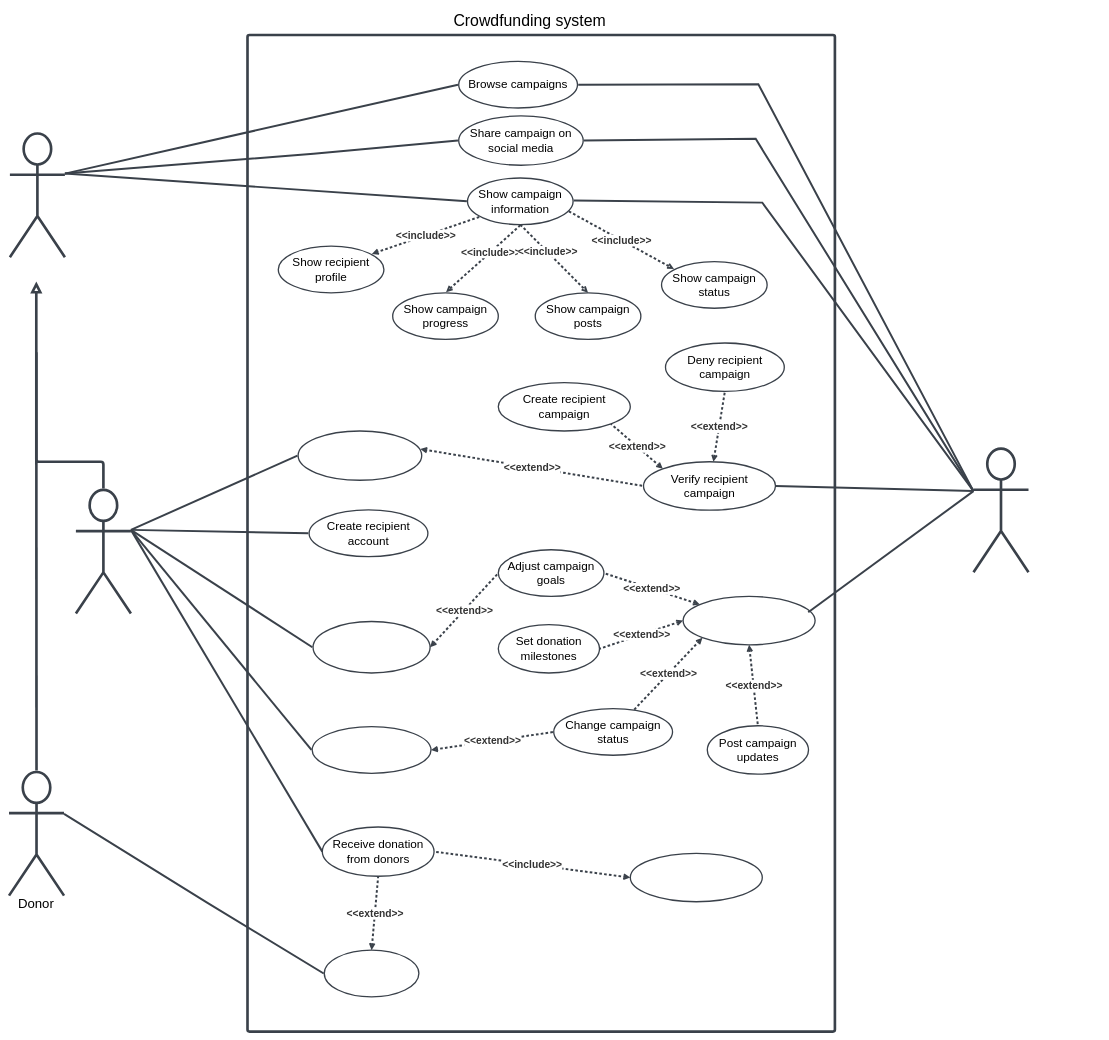
Some shapes in this 1109 by 1040 pixel diagram are drawn without their labels. Each missing label, with the centre of its shape:
"Apply for campaign creation" belongs at pixel 359 455.
"Charge service fee" belongs at pixel 696 877.
"Donate to recipient" belongs at pixel 371 973.
"End user" belongs at pixel 37 195.
"Manage recipient campaigns" belongs at pixel 749 620.
"Platform administrator" belongs at pixel 1001 510.
"Recipient" belongs at pixel 103 551.
"Request campaign end" belongs at pixel 371 750.
"Request campaign goal adjustment" belongs at pixel 371 647.
